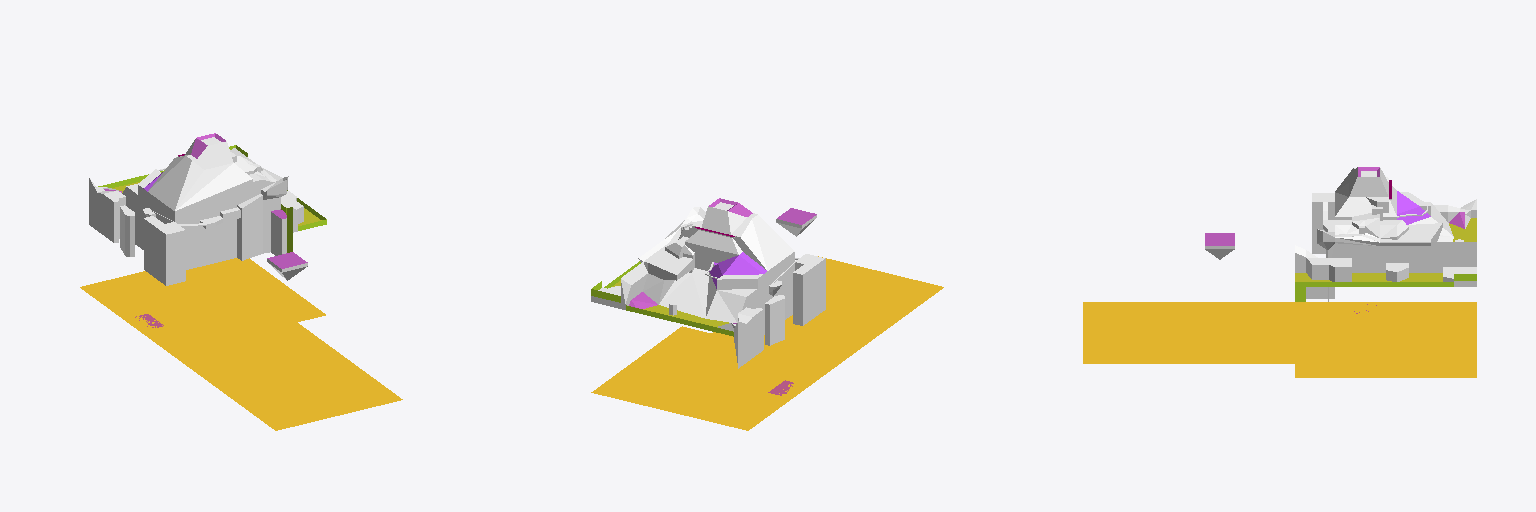
The model's file is Tiny Huge Island Area 2.obj.
3 views of the same model, side by side, from view 1: azimuth 30°, elevation 25°; view 2: azimuth 150°, elevation 25°; view 3: azimuth 270°, elevation 25° (orthographic).
Size of the model in its own units: 9830 by 10034 by 21298.